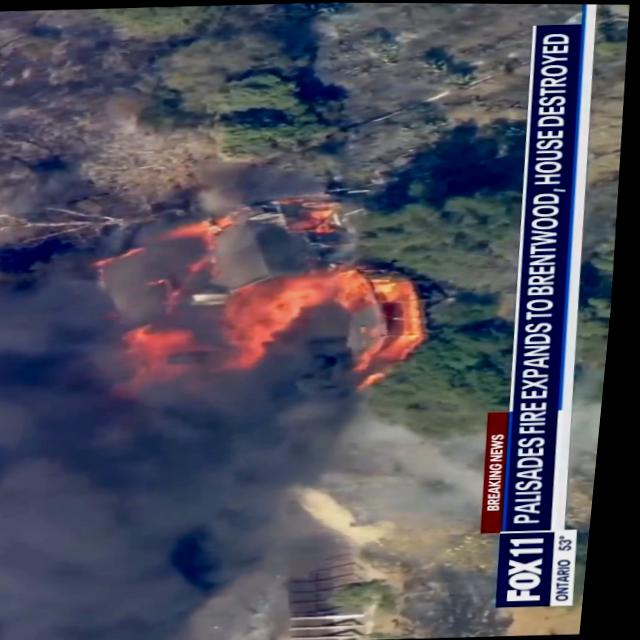Smoke: (0, 365, 343, 586)
